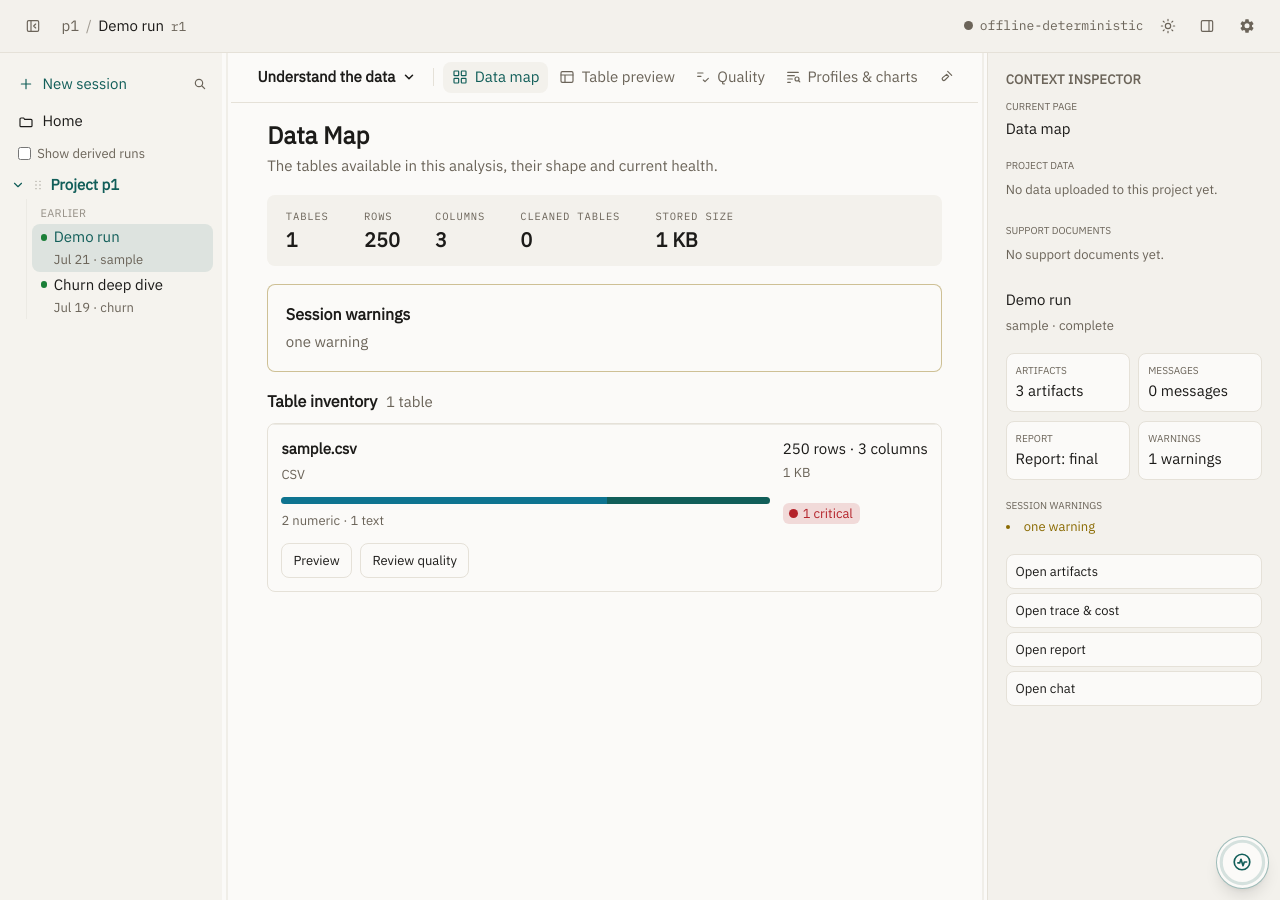
it: Run navigation groups › puts every session page under its section, in order
Expected: the heading "Data Map" is shown, [267,119,369,151]
Click the button "Understand the data".
click(337, 77)  # box [249,59,425,95]
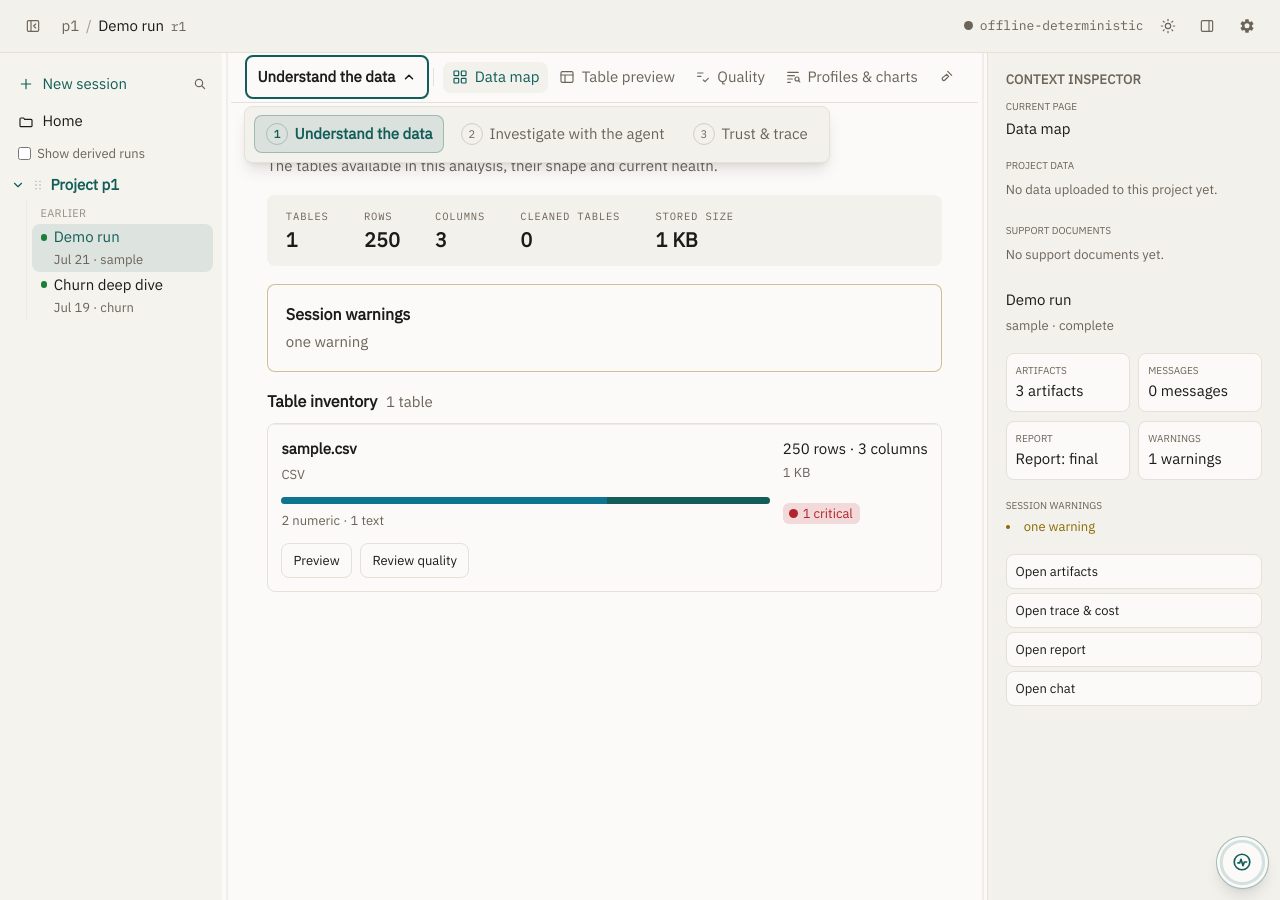
Click the button with aria-label "Show Understand the data pages".
click(349, 134)  # box [254,116,444,153]
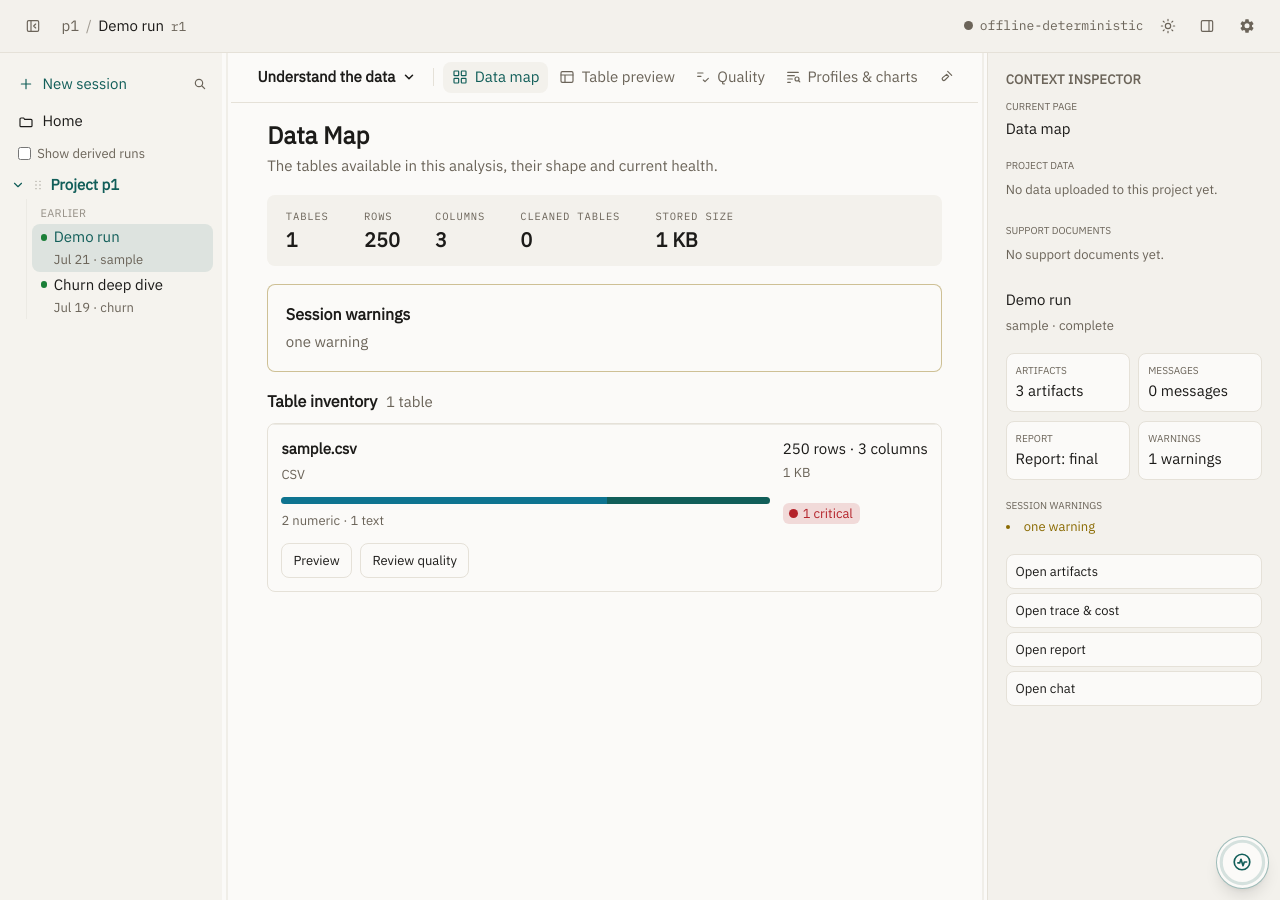
Click the button "Understand the data".
click(337, 77)  # box [249,59,425,95]
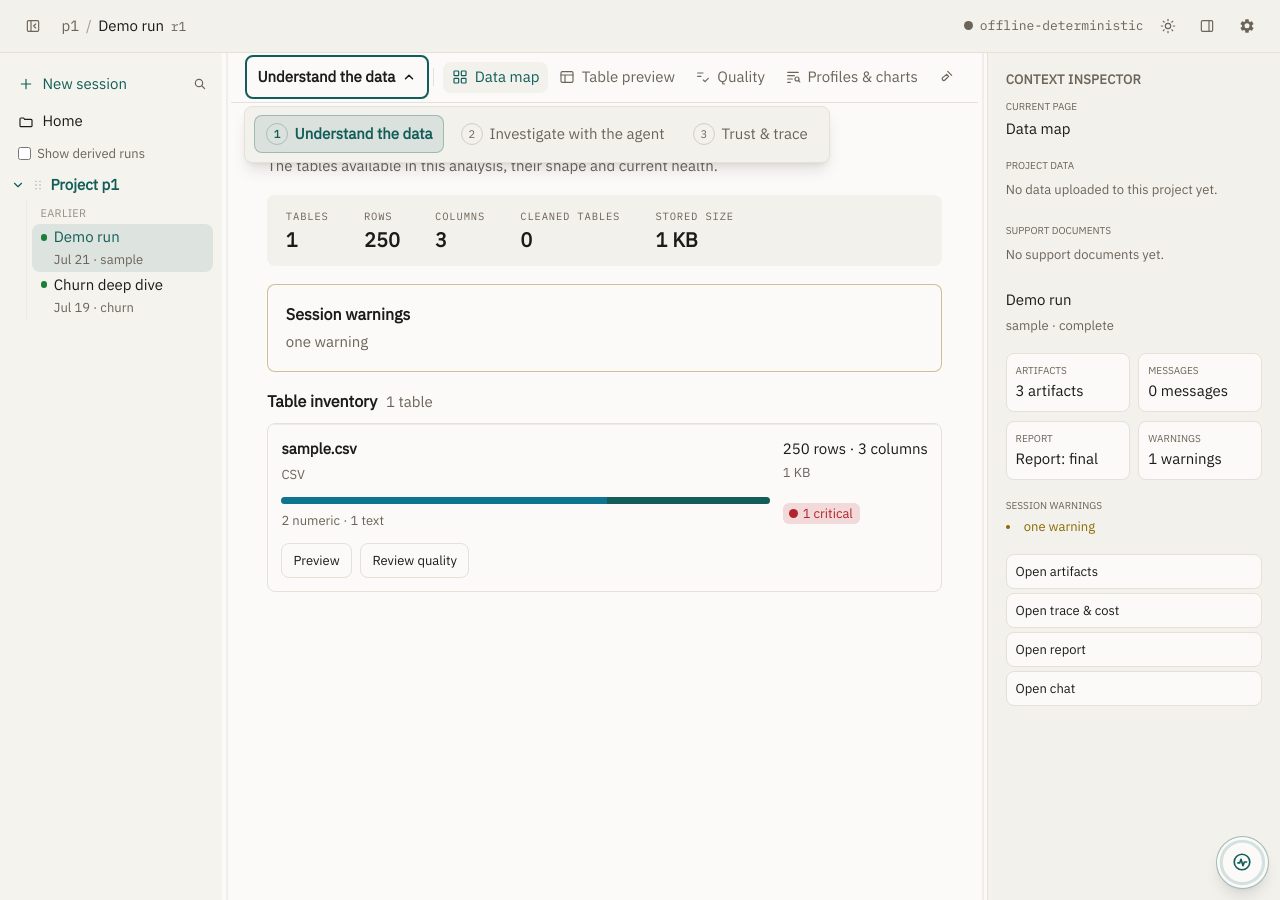
Click the button with aria-label "Show Investigate with the agent pages".
click(563, 134)  # box [449,116,676,153]
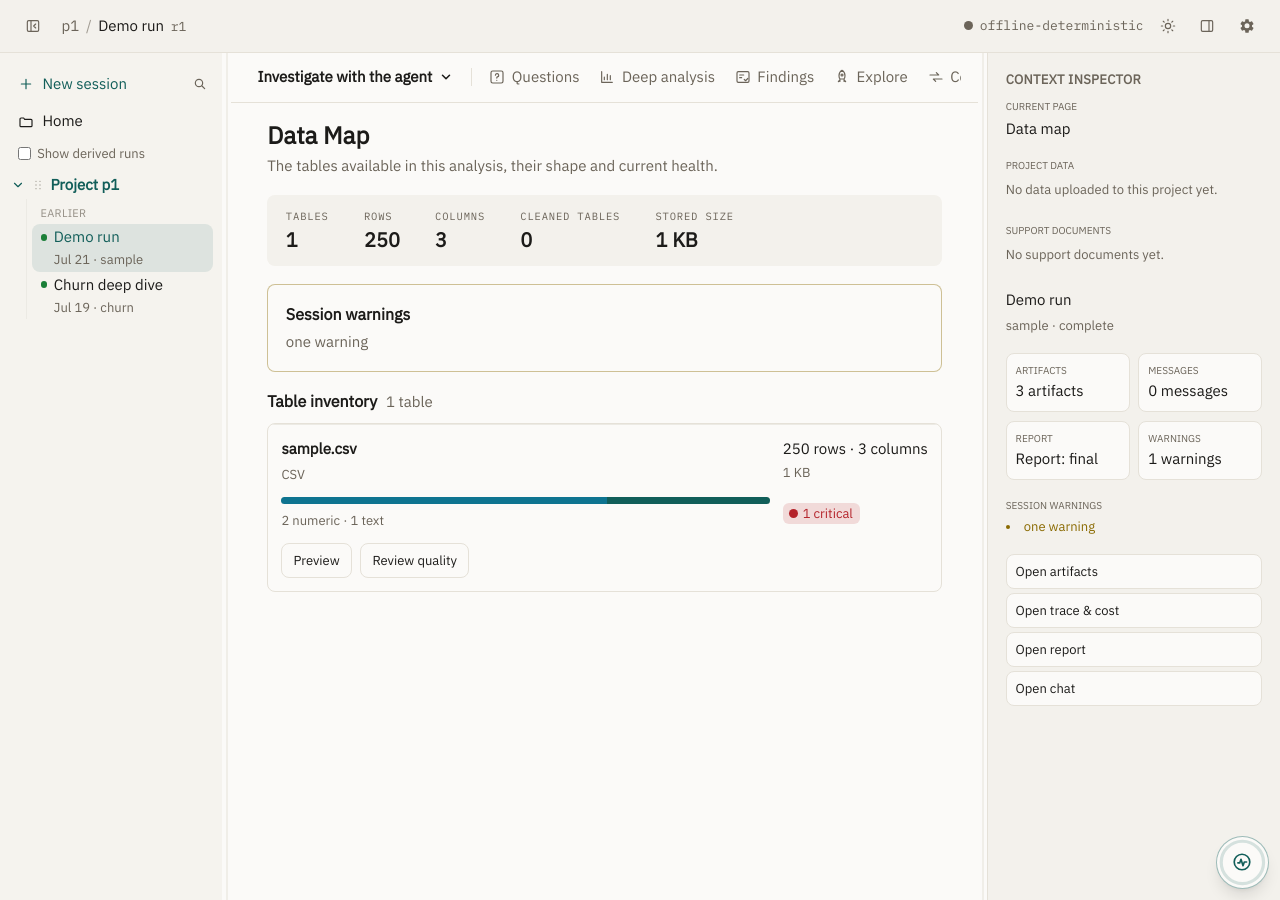
Click the button "Investigate with the agent".
click(355, 77)  # box [249,59,462,95]
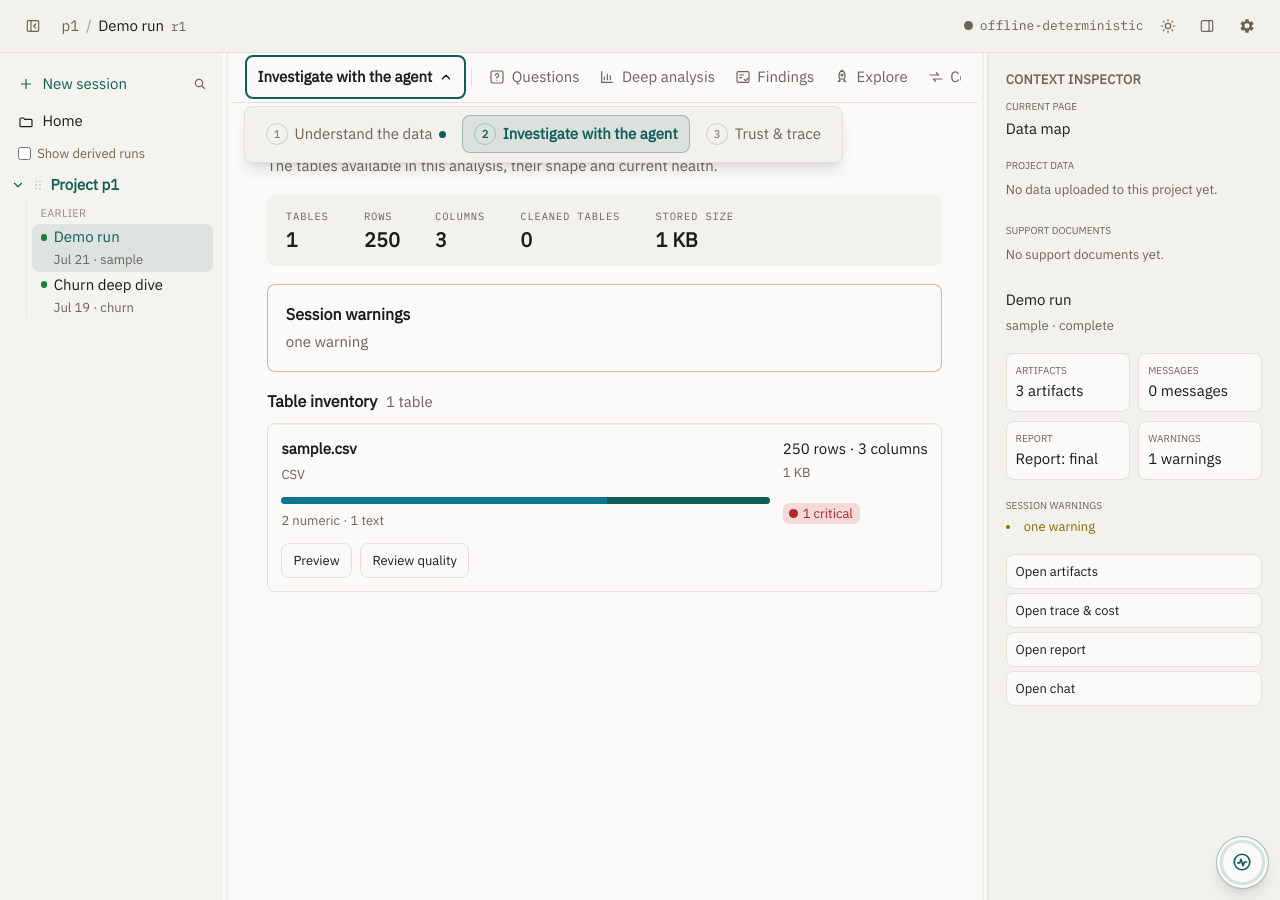
Click the button "3 Trust & trace".
click(763, 134)  # box [694,116,833,153]
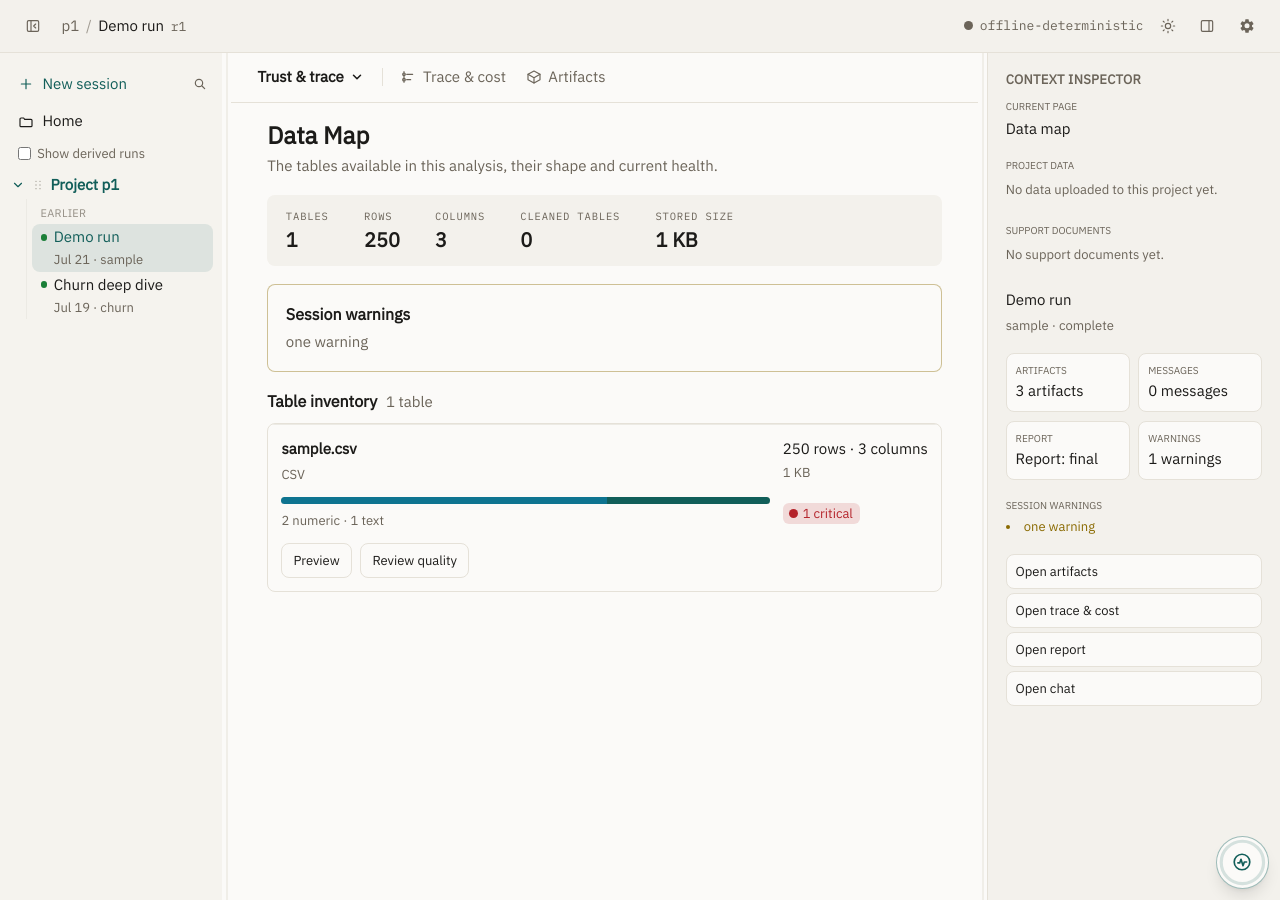
Expected: the links read "Trace & cost", "Artifacts", in this order, [392,62,515,93]; [526,67,606,86]
